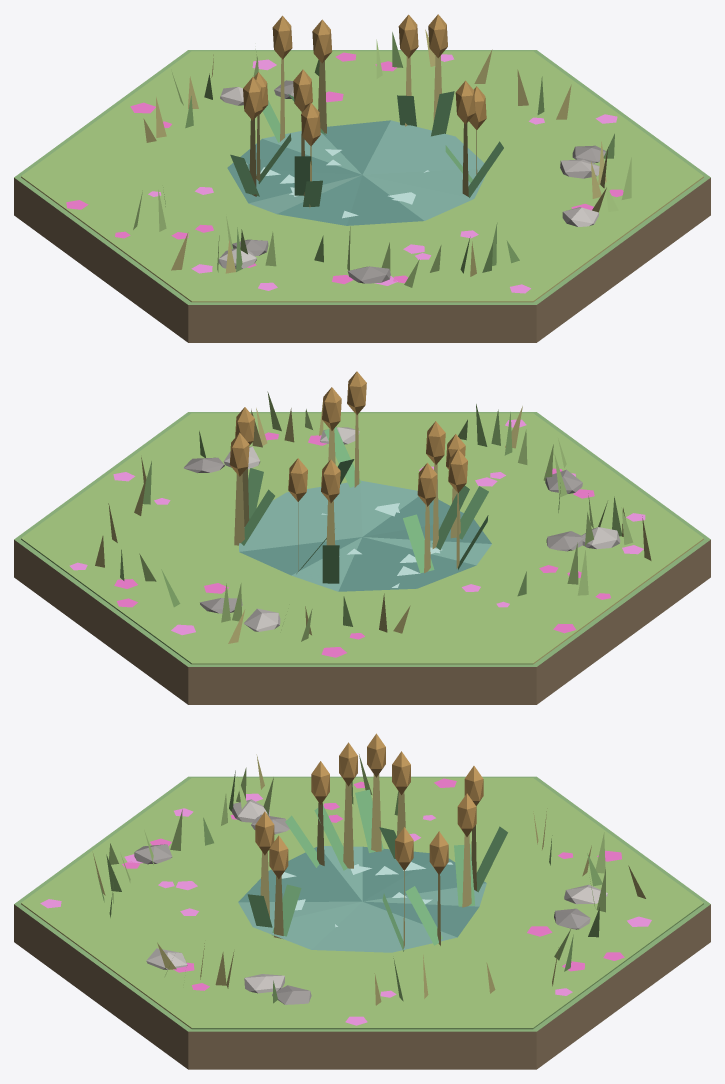
File: grass tile.glb
3 renders of one model, top to bottom at view 1: azimuth 30°, elevation 25°; view 2: azimuth 150°, elevation 25°; view 3: azimuth 270°, elevation 25°, orthographic.
Visible parts, largest first — view 1: GrassTerrain, HexBase, WaterPool, Reed_Leaf.005, Reed_Head.008, Reed_Head.005, Reed_Head.007, Reed_Head.009, Reed_Head, Reed_Head.003, Reed_Head.004, Reed_Head.002 (+7 smaller); view 2: GrassTerrain, HexBase, WaterPool, Reed_Leaf.001, Reed_Leaf.008, Reed_Head.001, Reed_Head.004, Reed_Head.006, Reed_Head.009, Reed_Head, Reed_Head.002, Reed_Head.007 (+11 smaller); view 3: GrassTerrain, HexBase, WaterPool, Reed_Stalk.002, Reed_Leaf, Reed_Leaf.004, Reed_Stalk, Reed_Leaf.008, Stone_22, Reed_Leaf.009, Reed_Head.004, Reed_Head.009 (+16 smaller).
Part boxes in pixels (left/top/right/bottom): GrassTerrain: left=21, top=51, right=703, bottom=302; HexBase: left=14, top=50, right=710, bottom=342; WaterPool: left=227, top=120, right=485, bottom=225; Reed_Leaf.005: left=431, top=91, right=454, bottom=136; Reed_Head.008: left=272, top=15, right=292, bottom=59; Reed_Head.005: left=428, top=14, right=447, bottom=58; Reed_Head.007: left=455, top=80, right=475, bottom=124; Reed_Head.009: left=312, top=19, right=332, bottom=63; Reed_Head: left=243, top=77, right=262, bottom=120; Reed_Head.003: left=301, top=102, right=320, bottom=146; Reed_Head.004: left=398, top=14, right=418, bottom=58; Reed_Head.002: left=293, top=69, right=312, bottom=112; GrassTerrain: left=21, top=413, right=703, bottom=664; HexBase: left=14, top=412, right=710, bottom=704; WaterPool: left=239, top=480, right=491, bottom=591; Reed_Leaf.001: left=403, top=514, right=434, bottom=573; Reed_Leaf.008: left=322, top=545, right=339, bottom=583; Reed_Head.001: left=417, top=462, right=437, bottom=506; Reed_Head.004: left=229, top=432, right=249, bottom=476; Reed_Head.006: left=322, top=387, right=341, bottom=430; Reed_Head.009: left=288, top=458, right=307, bottom=501; Reed_Head: left=448, top=449, right=467, bottom=492; Reed_Head.002: left=426, top=421, right=445, bottom=464; Reed_Head.007: left=347, top=371, right=366, bottom=414; GrassTerrain: left=21, top=778, right=703, bottom=1029; HexBase: left=14, top=776, right=710, bottom=1069; WaterPool: left=238, top=846, right=486, bottom=952; Reed_Stalk.002: left=343, top=783, right=353, bottom=868; Reed_Leaf: left=355, top=789, right=383, bottom=852; Reed_Leaf.004: left=405, top=886, right=442, bottom=945; Reed_Stalk: left=371, top=774, right=381, bottom=852; Reed_Leaf.008: left=476, top=826, right=507, bottom=892; Stone_22: left=244, top=974, right=284, bottom=993; Reed_Leaf.009: left=454, top=844, right=475, bottom=906; Reed_Head.004: left=429, top=831, right=448, bottom=874; Reed_Head.009: left=457, top=793, right=476, bottom=836.
Bounding box in the file's own units: 4.33 × 1.33 × 5.
